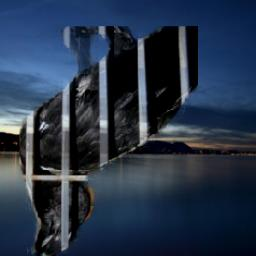Crow: (19, 26, 198, 256)
